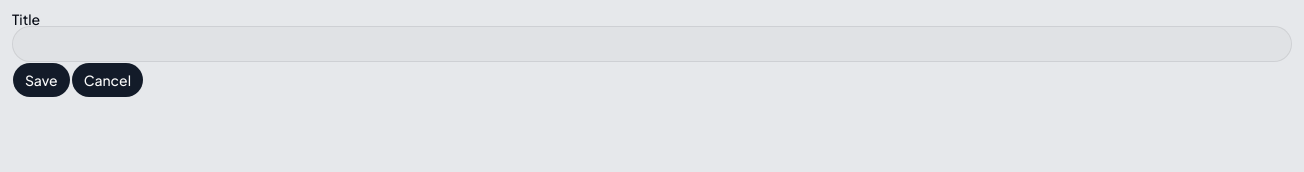
Test: associates validation messages, focuses the first invalid control, and clears a corrected field
Submit the form, box top-left (12, 12), bottom-right (1292, 98)
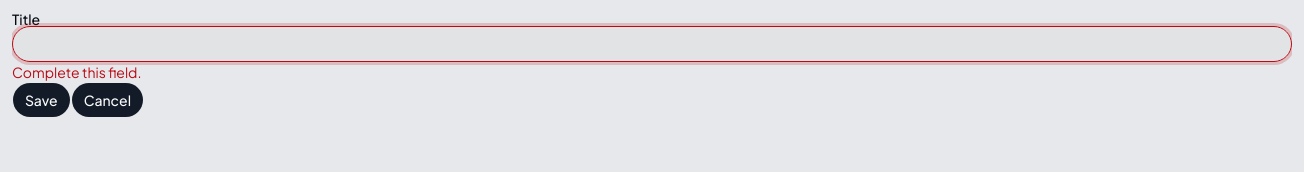
expect the message "Complete this field." is shown: met, box top-left (12, 63), bottom-right (142, 81)
Type "Call customer" into the field labelled "Title".
click(652, 44); type("Call customer")  # box top-left (12, 26), bottom-right (1292, 62)
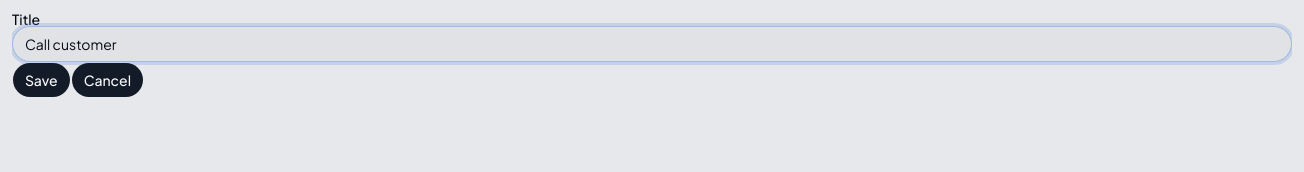
expect the field labelled "Title" is not marked as invalid: met, box top-left (12, 26), bottom-right (1292, 62)
